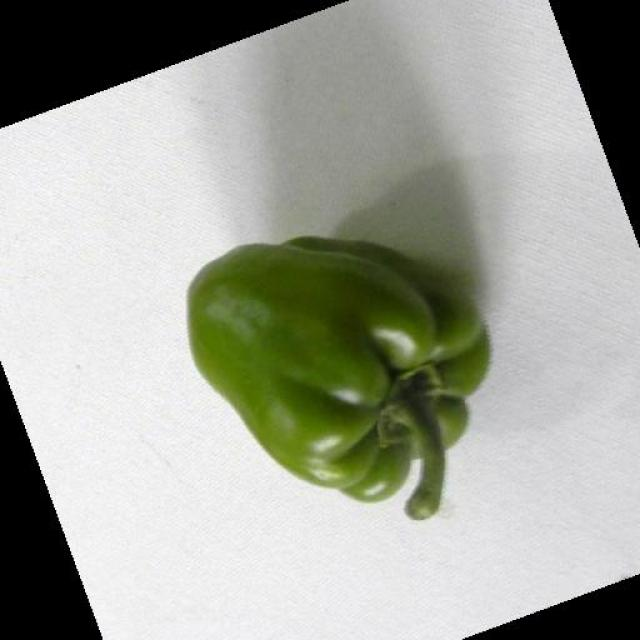Fresh_Capsicum: (167, 220, 480, 554)
